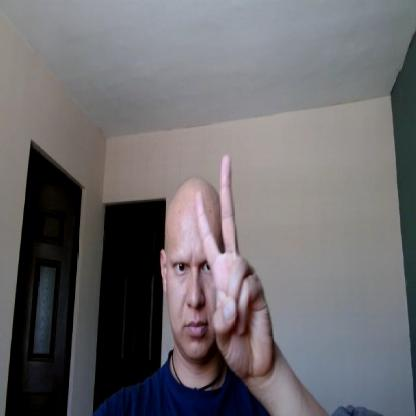V: (196, 152, 272, 379)
